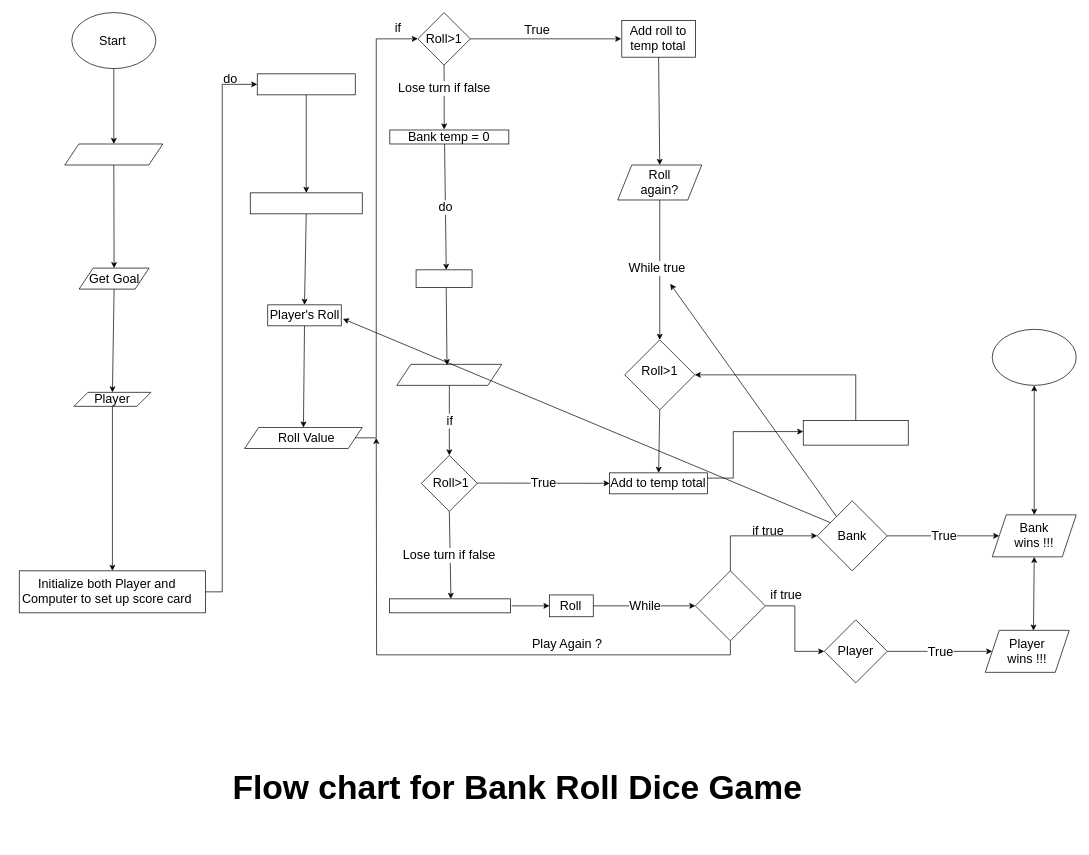
Image size: 1089x855. Some labels were removed from this diagram. The centre of each missing label's shape, as x and y in pixels:
"Bank roll" goes at point (443, 278).
"Bank temp total" goes at point (855, 432).
"Bank temp total=0" goes at point (450, 605).
"Explain rules" goes at point (113, 154).
"Initialize one die" goes at point (306, 84).
"Print roll value" goes at point (449, 374).
"Roll > 1" goes at point (730, 605).
"Stop" goes at point (1034, 357).
"Temporary total=0" goes at point (306, 203).
